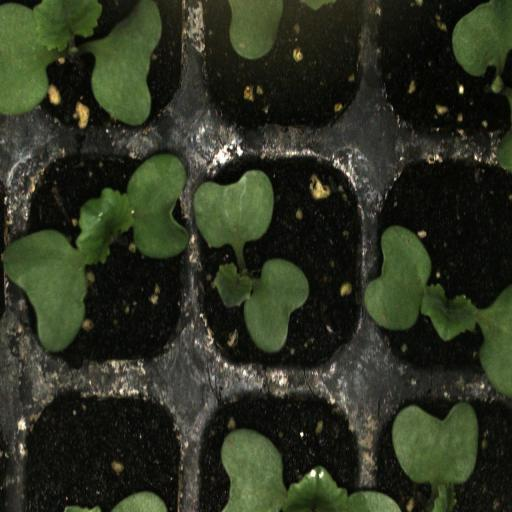Folha: (221, 428, 401, 512), (213, 258, 309, 353), (452, 0, 512, 76)
Germinacao: (192, 140, 373, 384), (14, 138, 192, 384), (372, 140, 512, 386), (13, 0, 190, 139)
